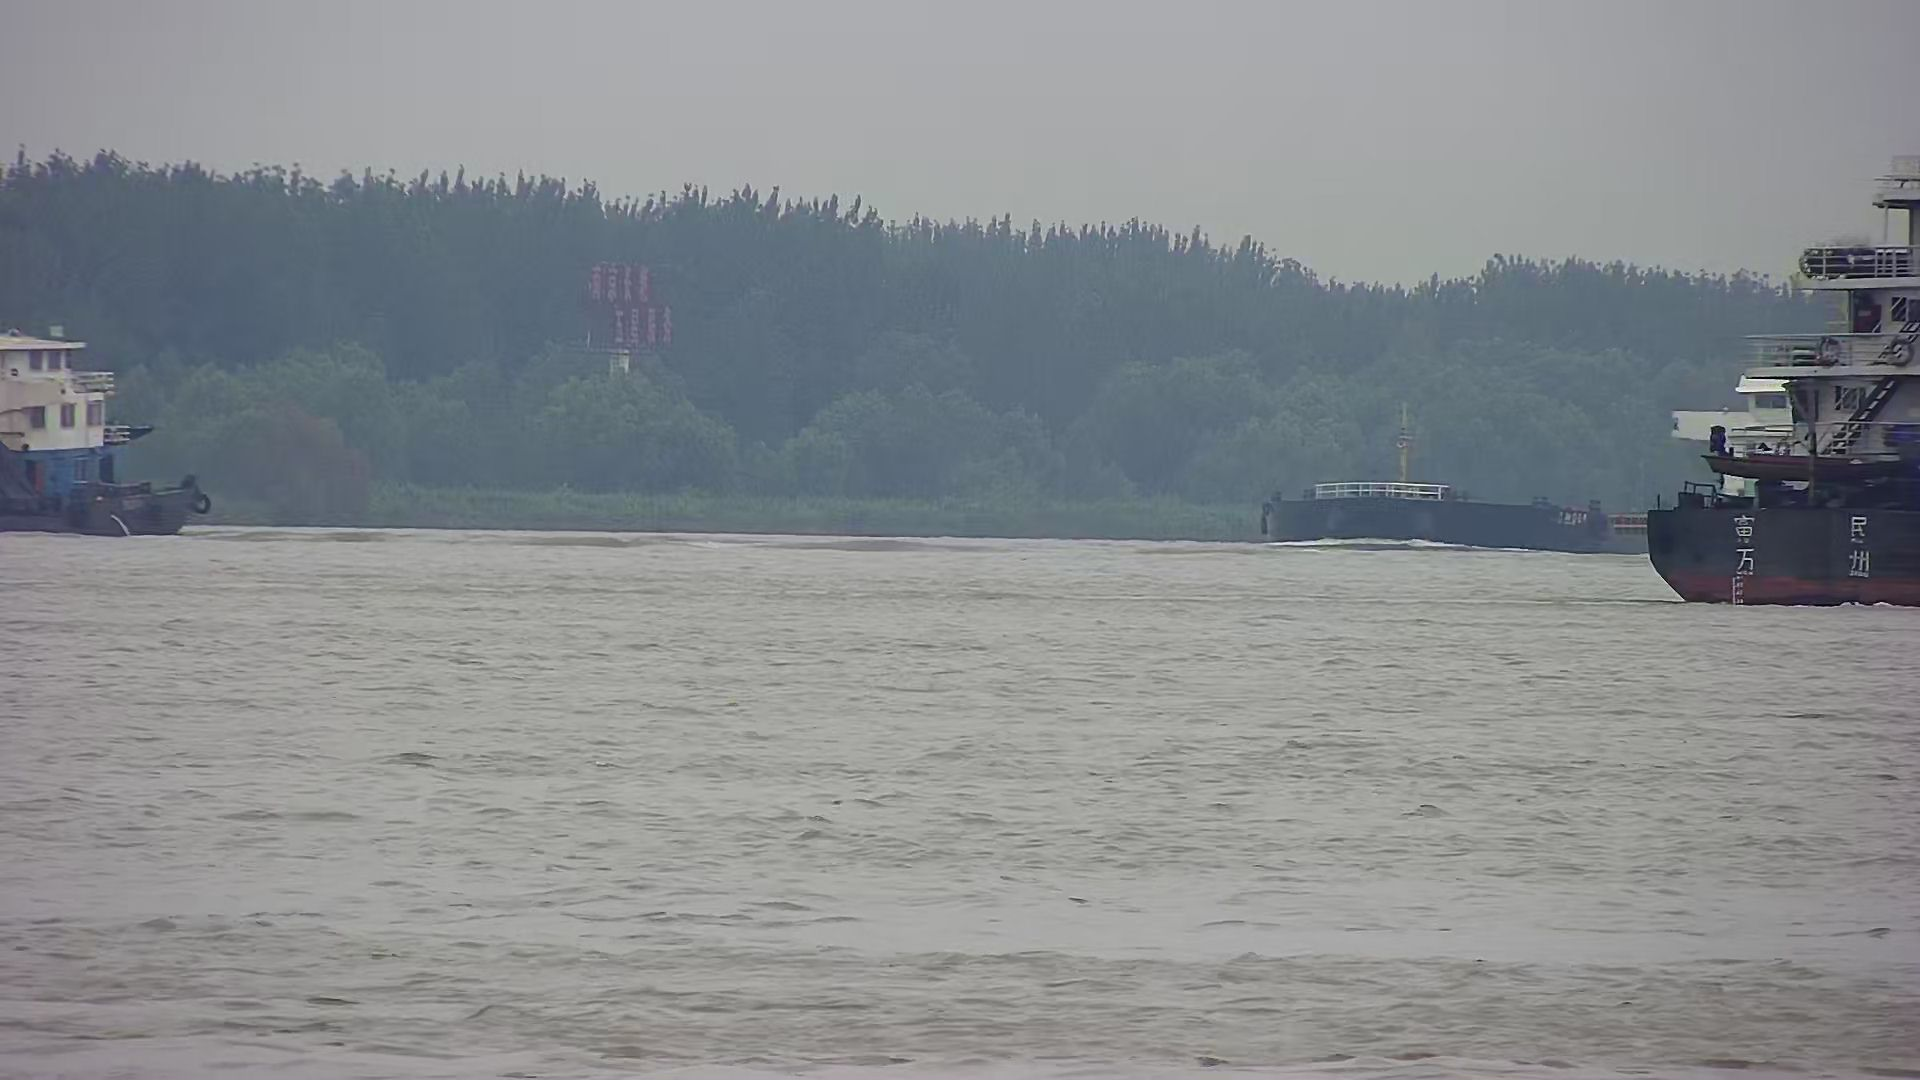ship: (1648, 156, 1920, 603), (1255, 394, 1648, 553), (3, 327, 210, 539)
